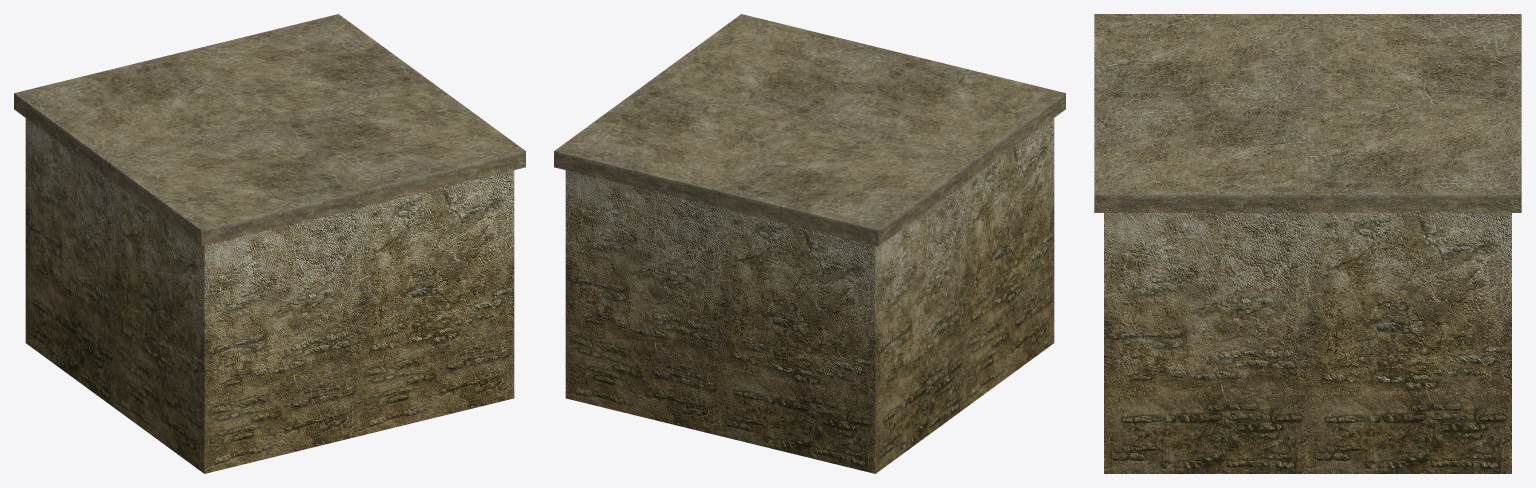
File: hrt_house4.glb
3 renders of one model, left to right at view 1: azimuth 30°, elevation 25°; view 2: azimuth 150°, elevation 25°; view 3: azimuth 270°, elevation 25°, orthographic. The views are drawn at different scales.
Visible parts, largest first — view 1: hrt_house4-col; view 2: hrt_house4-col; view 3: hrt_house4-col.
Part boxes in pixels (box(x1,y1,x2,y2)): hrt_house4-col: box(14, 14, 525, 473); hrt_house4-col: box(554, 14, 1065, 473); hrt_house4-col: box(1094, 14, 1521, 473).
Bounding box in the file's own units: 6.28 × 4.6 × 6.28.
Materials: 5 (5 with a texture image).
